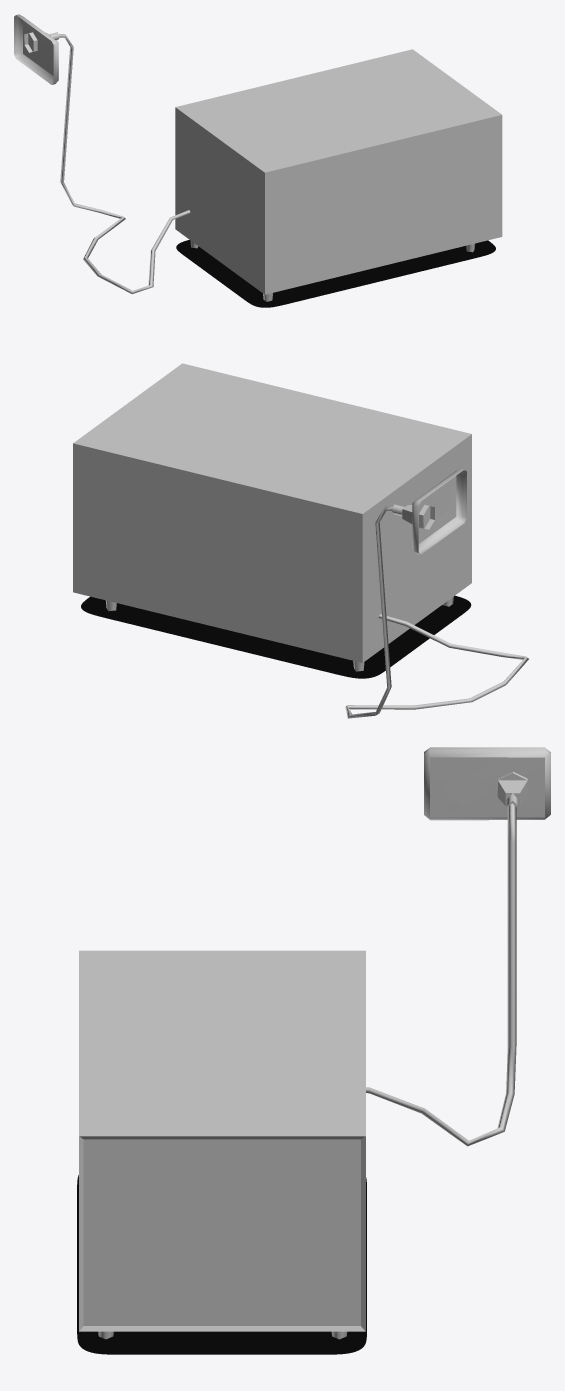
The model's file is VFO_LOD.fbx.
The picture shows the model from 3 angles, top to bottom: view 1: azimuth 30°, elevation 25°; view 2: azimuth 150°, elevation 25°; view 3: azimuth 270°, elevation 25°; orthographic projection. The views are drawn at different scales.
Visible parts, largest first — view 1: VFO_LOD, net_cable; view 2: VFO_LOD, net_cable; view 3: VFO_LOD, net_cable.
Boxes of the visible parts, bbox=[...] form: VFO_LOD: bbox=[175, 49, 502, 307]; net_cable: bbox=[14, 14, 190, 293]; VFO_LOD: bbox=[73, 363, 471, 678]; net_cable: bbox=[345, 468, 528, 718]; VFO_LOD: bbox=[77, 950, 366, 1354]; net_cable: bbox=[366, 747, 550, 1146].
Bounding box in the file's own units: 70.17 × 38.68 × 55.18.
